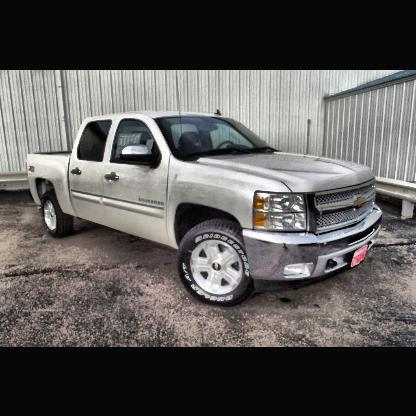Chevrolet Silverado 1500 Hybrid Crew Cab 2012: (28, 111, 382, 308)
